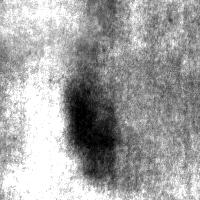patches: (80, 51, 200, 181), (0, 0, 115, 78), (64, 69, 116, 178), (40, 0, 100, 31)
